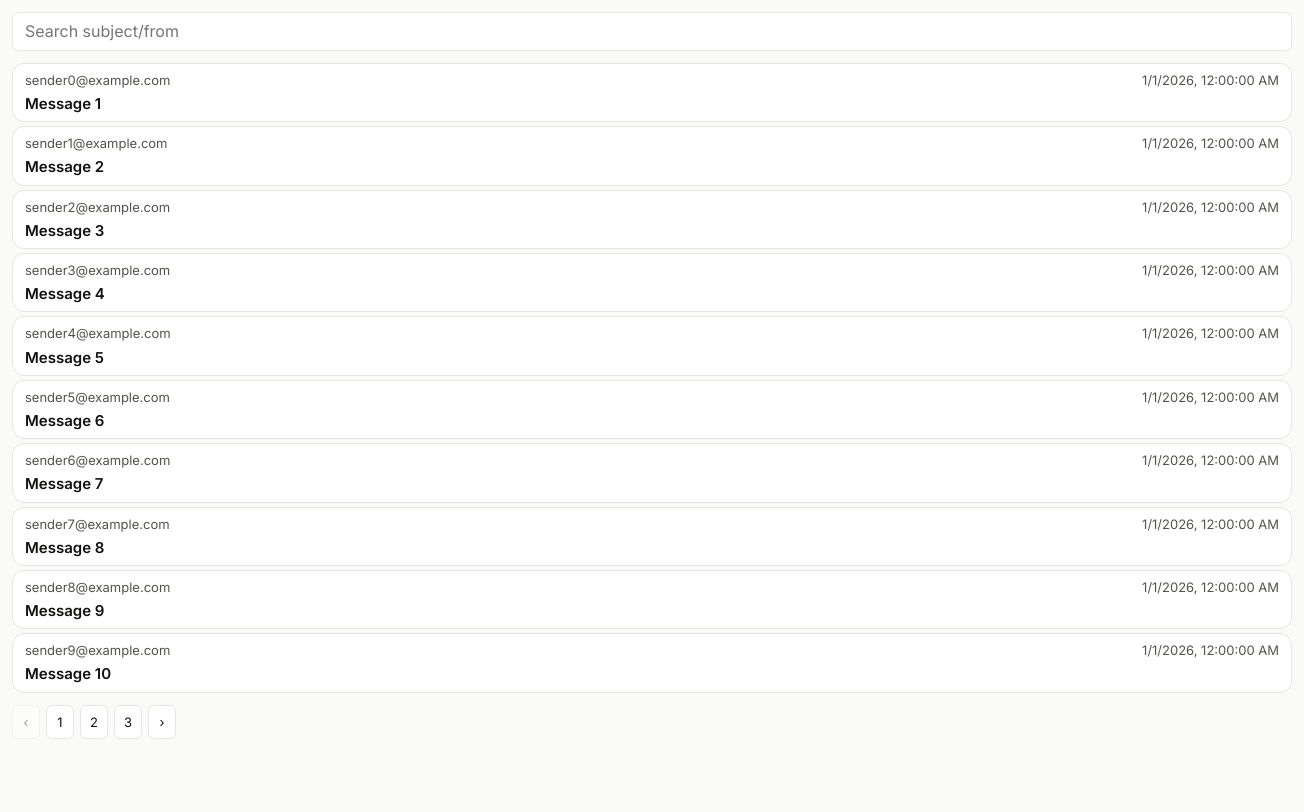
Scenario: EmailList › paginates at 10 per page and navigates between pages
Check: the text "Message 1" is shown, box [25, 94, 101, 113]
Check: the text "Message 11" is not shown
Step 1. Click the button named "Next page" → (162, 722), box [148, 705, 176, 739]
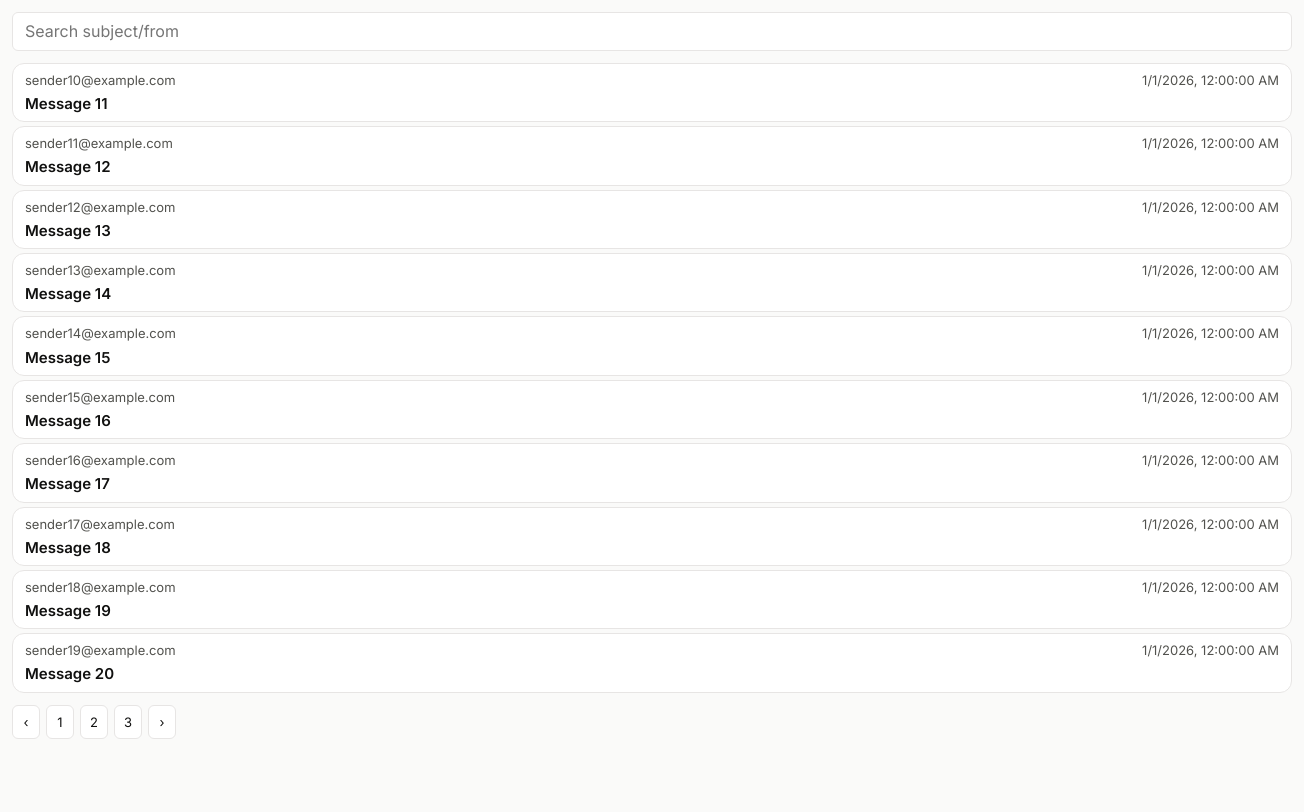
Check: the text "Message 11" is shown, box [25, 94, 108, 113]
